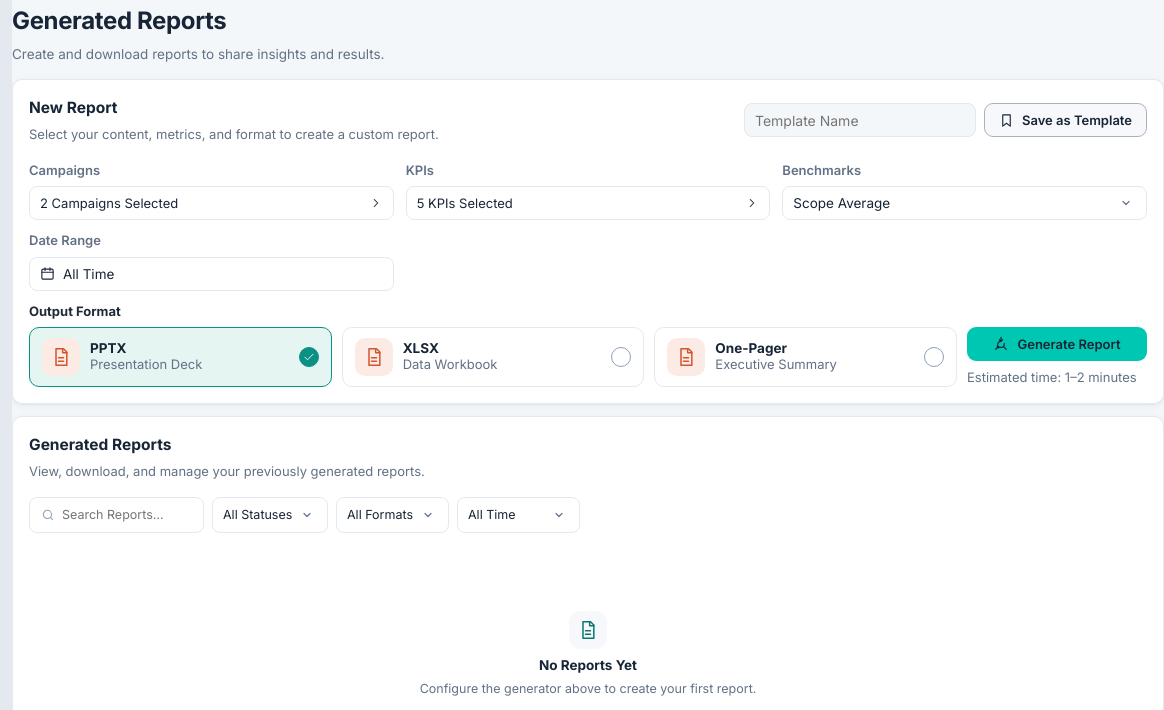
Test: ReportsPage › renders BLOCKED status when generation is refused
The width and height of the screenshot is (1164, 710).
Check: the text "2 Campaigns Selected" is shown, box [40,195,178,211]
What coordinates should you click on to do the following:
click the button "Generate Report"
I would click on:
 (1057, 344)
Its box is [967,327,1147,361].
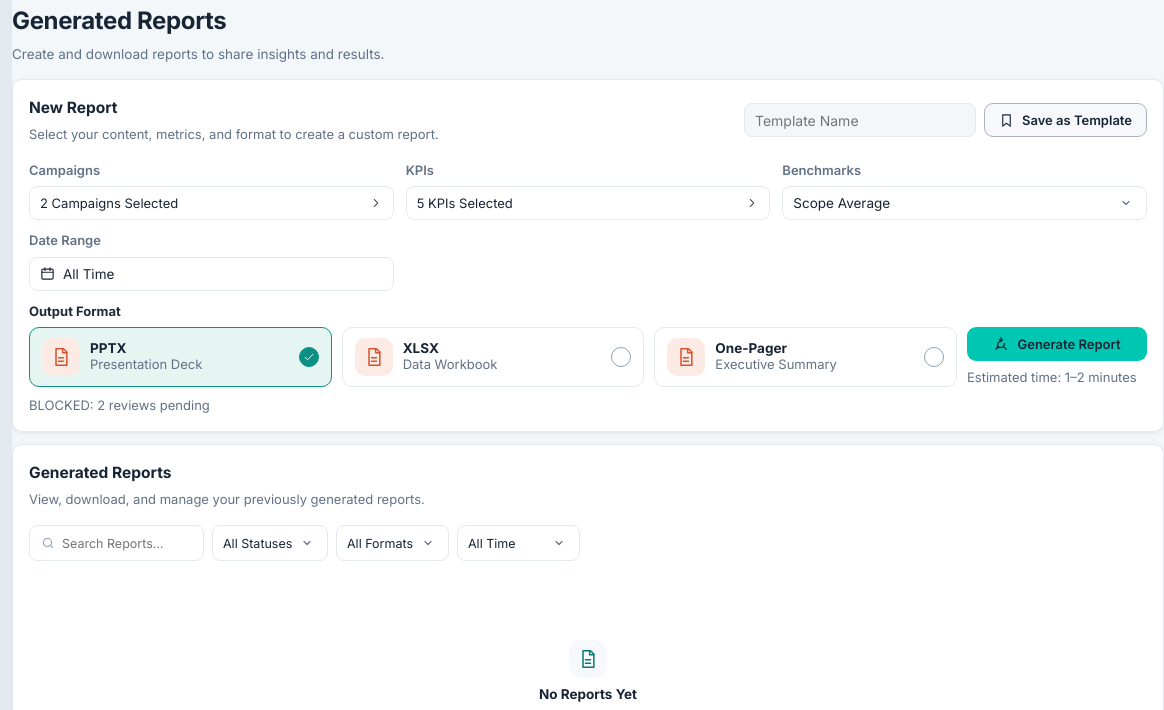
Check: the text "BLOCKED: 2 reviews pending" is shown, box [29,397,210,413]
